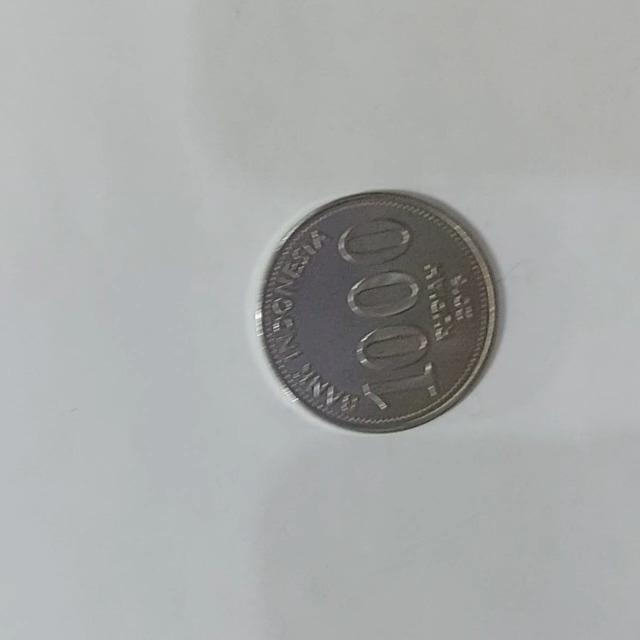Rp100: (255, 187, 499, 434)
